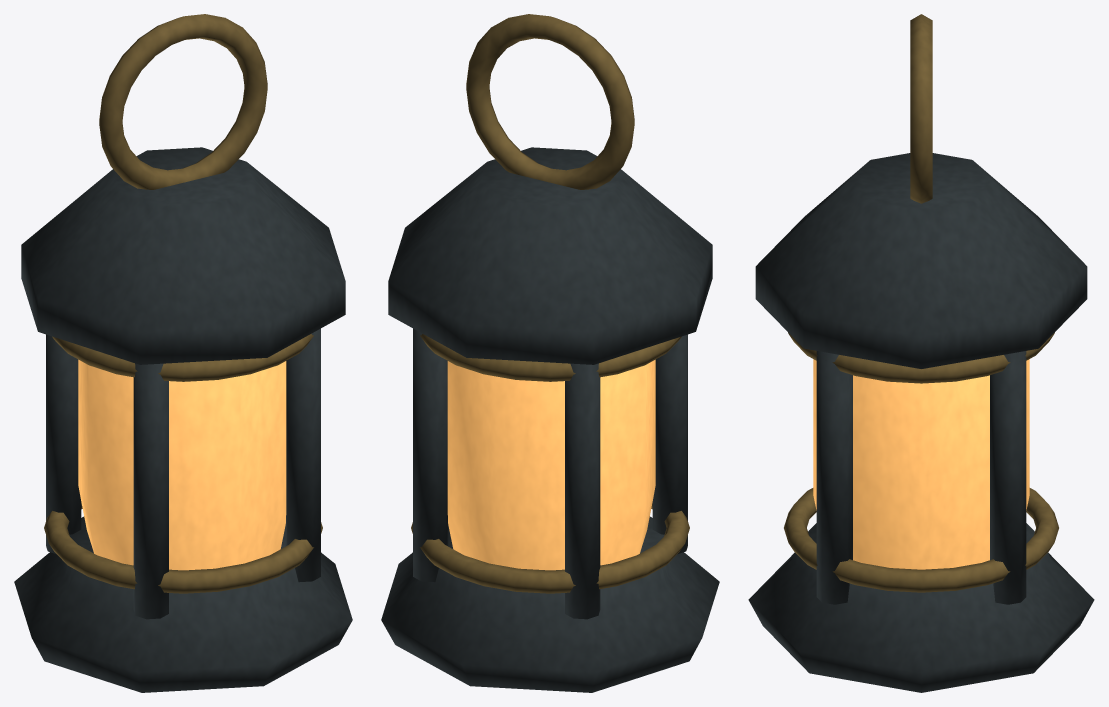
File: 15_Old_Lantern.glb
3 views of the same model, side by side, from view 1: azimuth 30°, elevation 25°; view 2: azimuth 150°, elevation 25°; view 3: azimuth 270°, elevation 25° (orthographic).
Parts seen in each view (by area): view 1: 15_Old_Lantern_Moving; view 2: 15_Old_Lantern_Moving; view 3: 15_Old_Lantern_Moving.
Boxes of the visible parts, x1,y1,x2,y2 form: 15_Old_Lantern_Moving: [14, 14, 352, 692]; 15_Old_Lantern_Moving: [381, 14, 719, 692]; 15_Old_Lantern_Moving: [748, 14, 1094, 692].
Size of the model in its own units: 0.48 by 0.923 by 0.48.
Materials: 3 (3 with a texture image).
